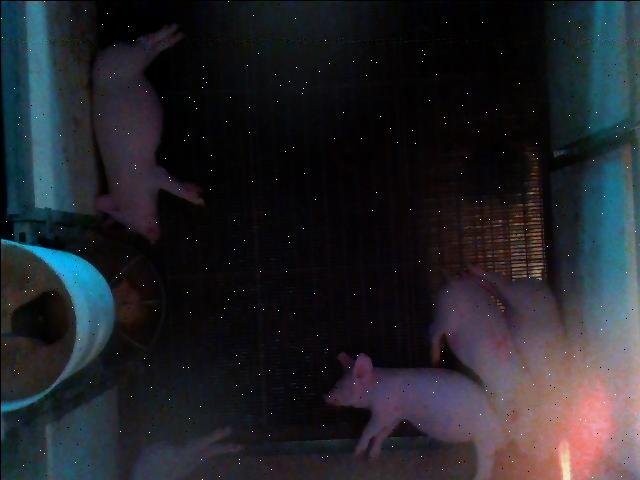pig-4: (429, 276, 538, 447)
